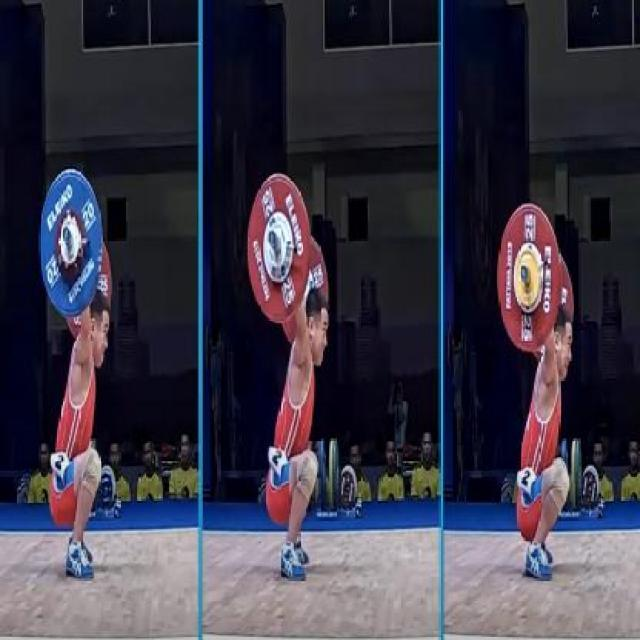Barbell: (264, 223, 278, 254), (518, 259, 532, 290), (60, 224, 72, 248)
